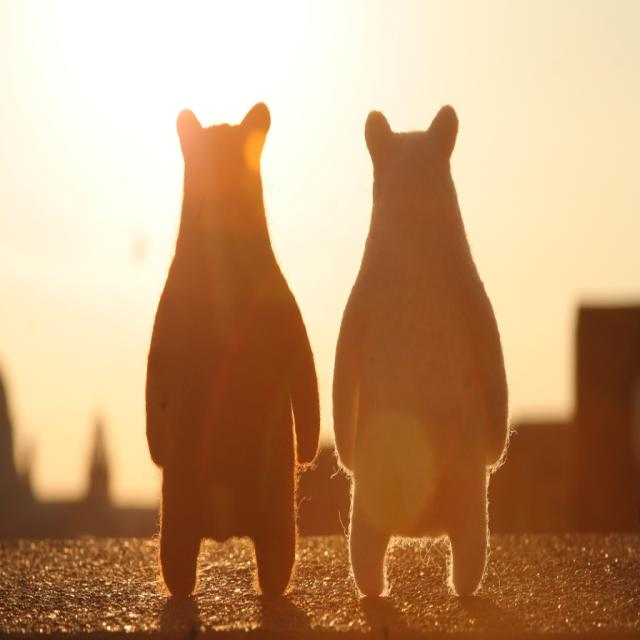Buffalo: (328, 103, 508, 600), (143, 99, 320, 596)
